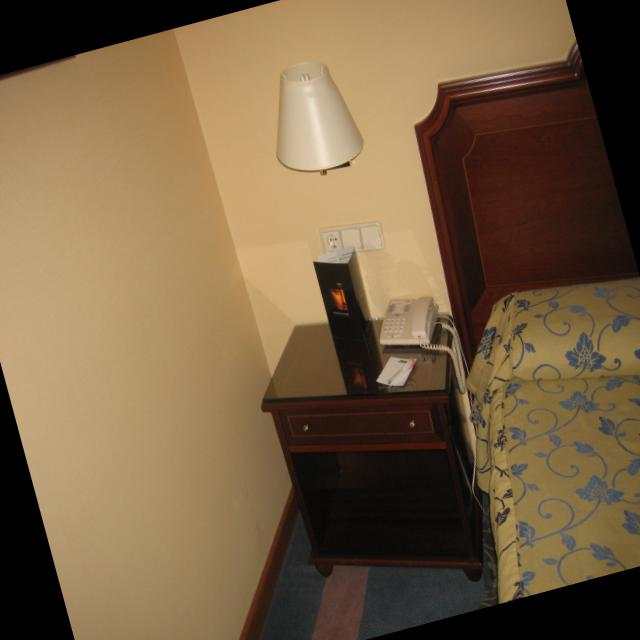bed frame: (416, 38, 640, 606)
floor -X: (261, 494, 483, 640)
light fixture: (276, 62, 363, 171)
night table crop: (262, 317, 481, 581)
telephone booth: (381, 295, 440, 345)
wall clock: (176, 0, 640, 496), (0, 29, 303, 640)
